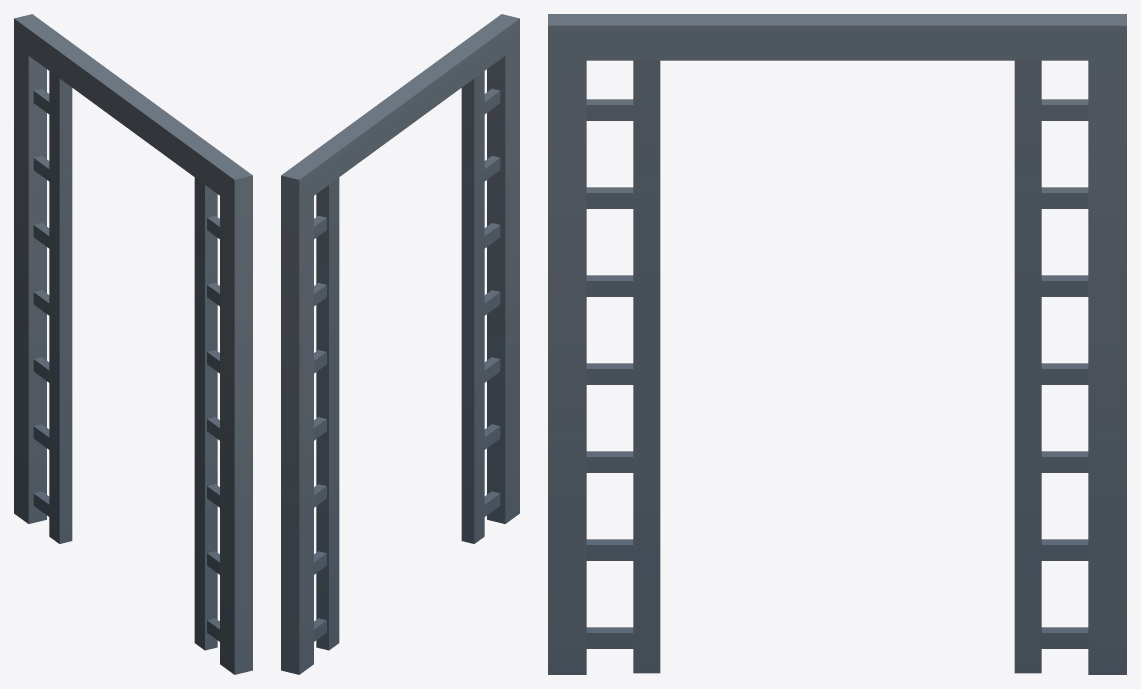
File: Fence_1_A_1.fbx
3 renders of one model, left to right at view 1: azimuth 30°, elevation 25°; view 2: azimuth 150°, elevation 25°; view 3: azimuth 270°, elevation 25°, orthographic. The views are drawn at different scales.
Parts seen in each view (by area): view 1: Fence_1_A_1; view 2: Fence_1_A_1; view 3: Fence_1_A_1.
Boxes of the visible parts, x1,y1,x2,y2 form: Fence_1_A_1: (14, 14, 252, 674); Fence_1_A_1: (281, 14, 519, 674); Fence_1_A_1: (548, 14, 1126, 674).
Bounding box in the file's own units: 9.6 × 248 × 200.
